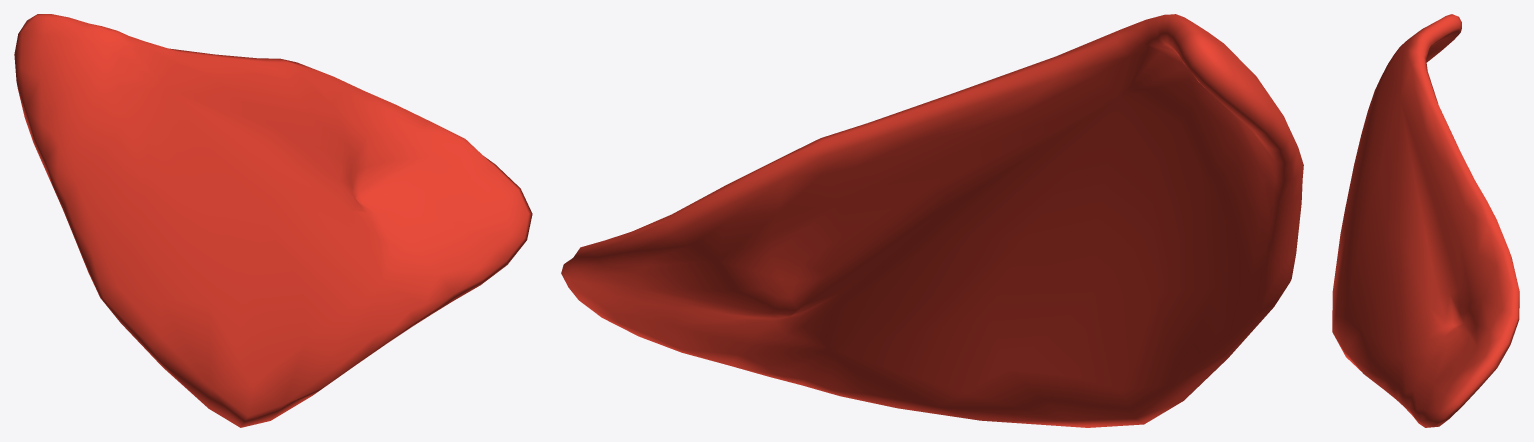
Rendered from Deep_head_of_flexor_pollicis_brevis_on_tubercle_of_trapezium.l_.glb.
3 views of the same model, side by side, from view 1: azimuth 30°, elevation 25°; view 2: azimuth 150°, elevation 25°; view 3: azimuth 270°, elevation 25° (orthographic). The views are drawn at different scales.
Visible parts, largest first — view 1: Deep_head_of_flexor_pollicis_brevis_on_tubercle_of_trapezium; view 2: Deep_head_of_flexor_pollicis_brevis_on_tubercle_of_trapezium; view 3: Deep_head_of_flexor_pollicis_brevis_on_tubercle_of_trapezium.
Part boxes in pixels (bbox=[...]): Deep_head_of_flexor_pollicis_brevis_on_tubercle_of_trapezium: bbox=[14, 14, 532, 427]; Deep_head_of_flexor_pollicis_brevis_on_tubercle_of_trapezium: bbox=[561, 14, 1303, 427]; Deep_head_of_flexor_pollicis_brevis_on_tubercle_of_trapezium: bbox=[1332, 14, 1519, 427].
Size of the model in its own units: 0.0113 by 0.00807 by 0.0048.
